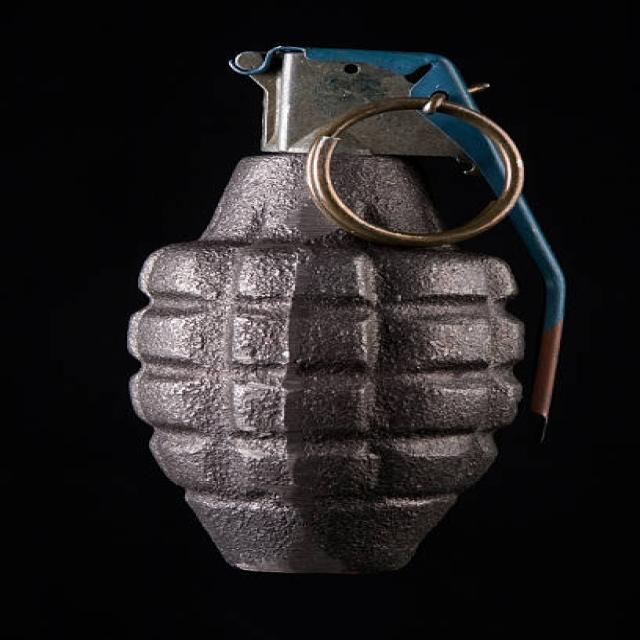grenade: (105, 35, 574, 586)
